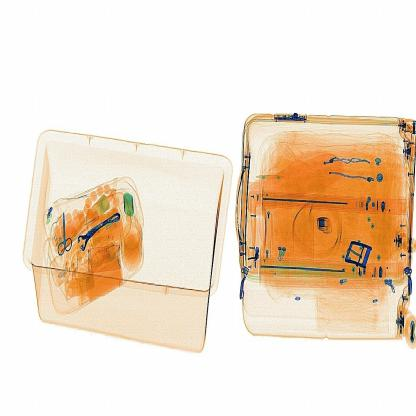wrench: (309, 214, 338, 240)
